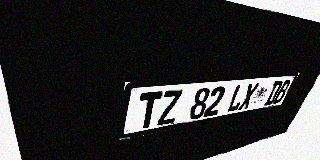2: (203, 86, 227, 117)
8: (188, 87, 212, 120)
B: (272, 80, 292, 104)
D: (264, 80, 284, 105)
L: (226, 84, 248, 113)
T: (136, 91, 163, 130)
X: (238, 83, 259, 110)
Z: (157, 89, 183, 126)
